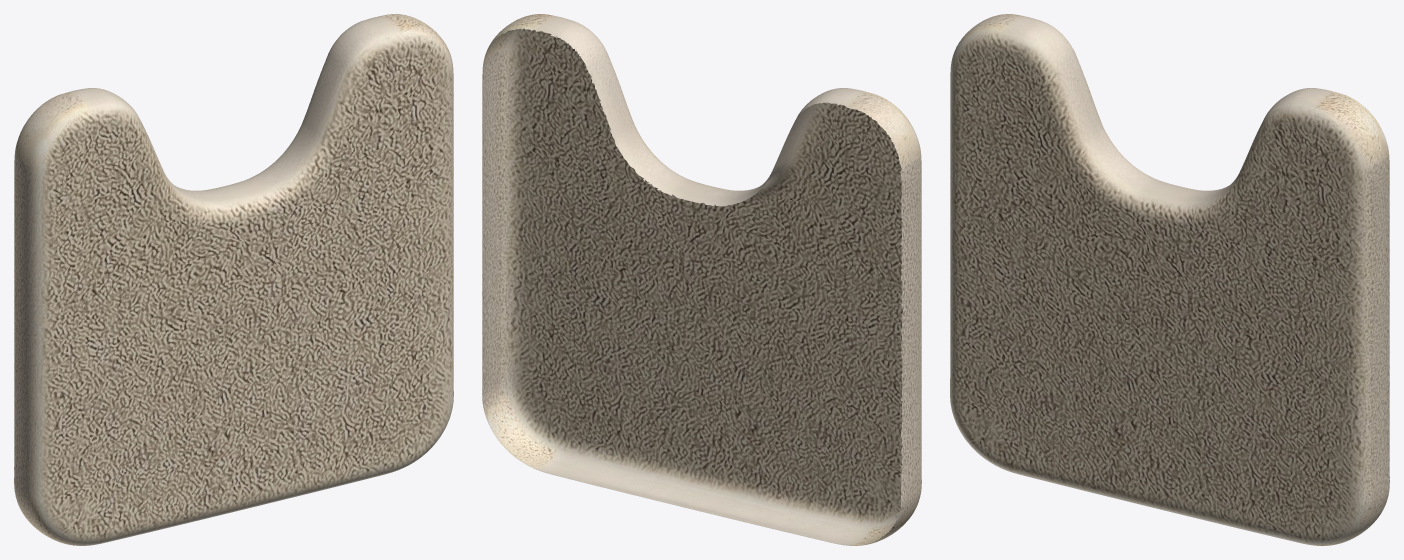
The model's file is mk2-toilet-mat.glb.
The picture shows the model from 3 angles, left to right: view 1: azimuth 30°, elevation 25°; view 2: azimuth 150°, elevation 25°; view 3: azimuth 330°, elevation 25°; orthographic projection.
Visible parts, largest first — view 1: mesh_node; view 2: mesh_node; view 3: mesh_node.
Part boxes in pixels (left/top/right/bottom): mesh_node: left=14, top=14, right=453, bottom=545; mesh_node: left=482, top=14, right=921, bottom=545; mesh_node: left=950, top=14, right=1389, bottom=545.
Size of the model in its own units: 1.89 by 1.9 by 0.1966.
1 material, 1 textured.
